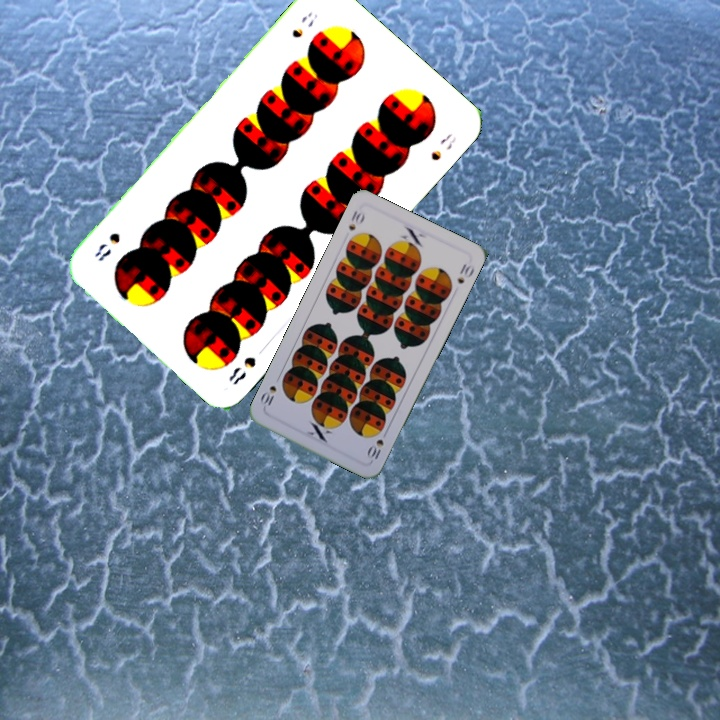S10: (363, 435, 386, 462), (344, 206, 367, 233)
S8: (224, 352, 259, 388), (287, 8, 321, 41)
